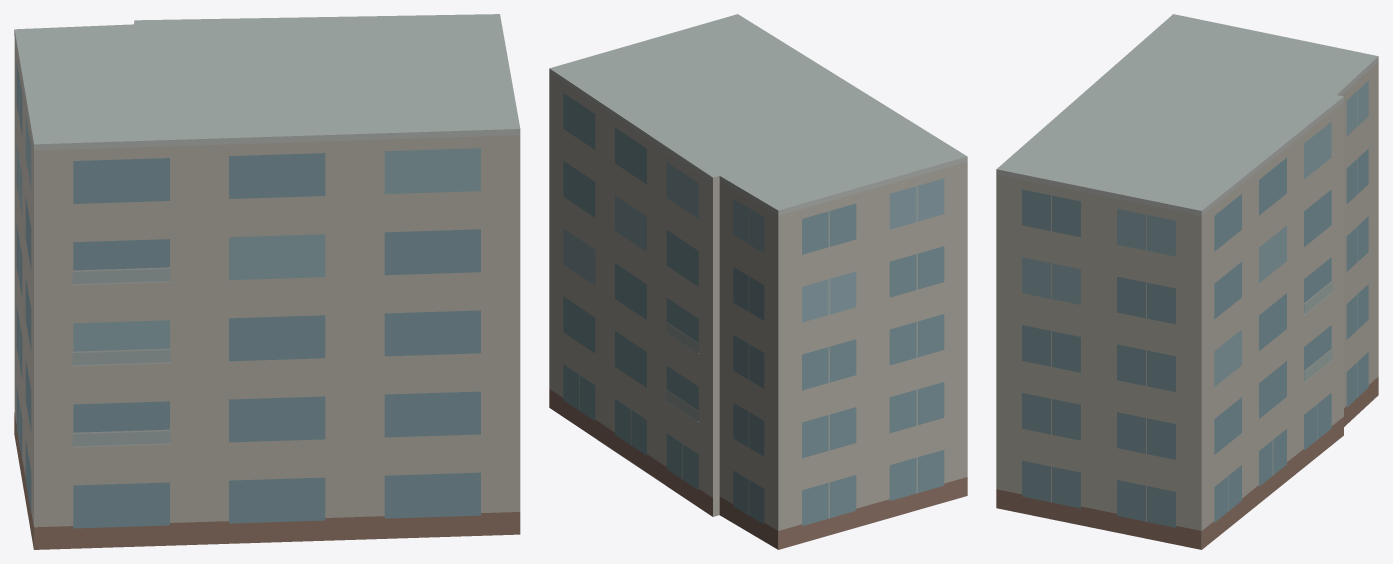
Rendered from survey-upis-32881804.glb.
The picture shows the model from 3 angles, left to right: view 1: azimuth 30°, elevation 25°; view 2: azimuth 150°, elevation 25°; view 3: azimuth 270°, elevation 25°; orthographic projection. The views are drawn at different scales.
Parts seen in each view (by area): view 1: survey-upis-32881804.tmp; view 2: survey-upis-32881804.tmp; view 3: survey-upis-32881804.tmp.
Boxes of the visible parts, x1,y1,x2,y2 form: survey-upis-32881804.tmp: [14, 14, 520, 549]; survey-upis-32881804.tmp: [549, 14, 967, 549]; survey-upis-32881804.tmp: [996, 14, 1378, 549].
Size of the model in its own units: 19.76 by 15.85 by 16.21.
